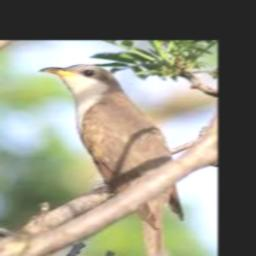Cuckoo: (39, 64, 183, 256)
